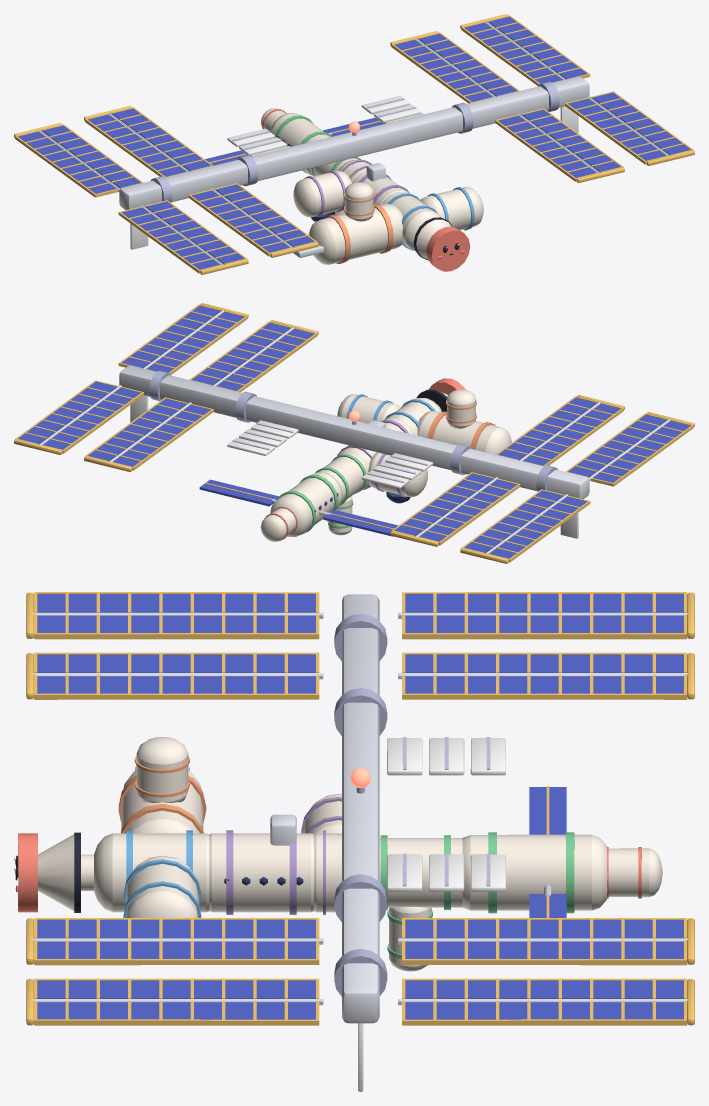
File: iss.glb
The picture shows the model from 3 angles, top to bottom: view 1: azimuth 30°, elevation 25°; view 2: azimuth 150°, elevation 25°; view 3: azimuth 270°, elevation 25°; orthographic projection. The views are drawn at different scales.
Parts seen in each view (by area): view 1: Modules, Truss, SolarWing_P1A, SolarWing_P2A, SolarWing_S2A, SolarWing_S1A, SolarWing_P2B, SolarWing_S2B, SolarWing_S1B, SolarWing_P1B, ServiceArrays; view 2: Truss, Modules, SolarWing_P1B, SolarWing_P2B, SolarWing_S2B, SolarWing_S1B, SolarWing_P2A, SolarWing_S2A, SolarWing_S1A, SolarWing_P1A, ServiceArrays; view 3: Modules, Truss, SolarWing_P1A, SolarWing_P2A, SolarWing_S2A, SolarWing_P1B, SolarWing_P2B, SolarWing_S2B, SolarWing_S1A, SolarWing_S1B, ServiceArrays.
Part boxes in pixels (x1,y1,x2,y2): Modules: (260,108,483,271); Truss: (119,77,589,249); SolarWing_P1A: (188,183,318,257); SolarWing_P2A: (118,200,248,274); SolarWing_S2A: (565,91,694,165); SolarWing_S1A: (495,108,624,182); SolarWing_P2B: (14,123,143,197); SolarWing_S2B: (460,14,590,85); SolarWing_S1B: (390,31,519,103); SolarWing_P1B: (84,106,213,177); ServiceArrays: (205,117,385,165); Truss: (119,366,589,538); Modules: (260,378,511,541); SolarWing_P1B: (390,472,520,546); SolarWing_P2B: (460,489,590,563); SolarWing_S2B: (14,380,143,454); SolarWing_S1B: (84,397,213,471); SolarWing_P2A: (565,412,694,486); SolarWing_S2A: (118,303,248,374); SolarWing_S1A: (189,320,318,392); SolarWing_P1A: (495,395,624,466); ServiceArrays: (199,479,398,536); Modules: (18,737,662,971); Truss: (270,594,505,1091); SolarWing_P1A: (26,652,323,699); SolarWing_P2A: (26,592,323,639); SolarWing_S2A: (26,978,323,1025); SolarWing_P1B: (398,652,694,699); SolarWing_P2B: (398,592,694,639); SolarWing_S2B: (398,978,694,1025); SolarWing_S1A: (26,918,323,965); SolarWing_S1B: (398,918,694,965); ServiceArrays: (529,786,566,917).
Size of the model in its own units: 1 by 0.2174 by 0.6714.
